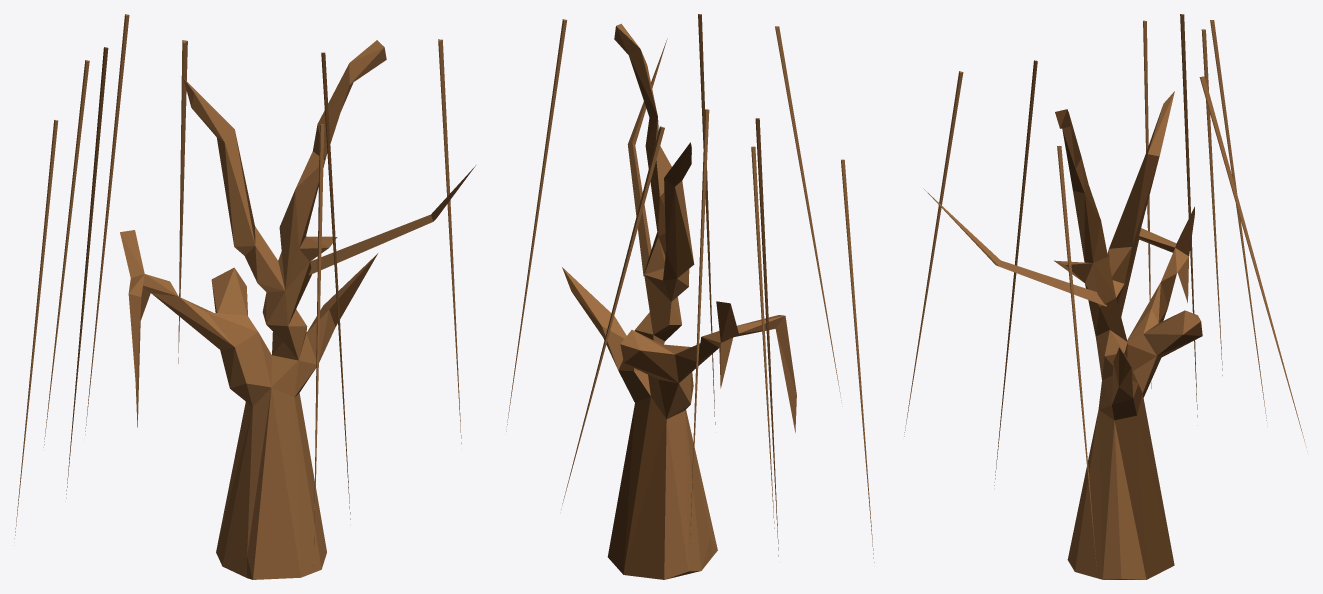
File: willow_bare_far.glb
3 renders of one model, left to right at view 1: azimuth 30°, elevation 25°; view 2: azimuth 150°, elevation 25°; view 3: azimuth 270°, elevation 25°, orthographic. The views are drawn at different scales.
Visible parts, largest first — view 1: willow_bare_far; view 2: willow_bare_far; view 3: willow_bare_far.
Boxes of the visible parts, <box> form: willow_bare_far: <box>14,14,475,579</box>; willow_bare_far: <box>506,14,874,579</box>; willow_bare_far: <box>904,14,1306,579</box>.
Bounding box in the file's own units: 5.54 × 6.79 × 4.97.
